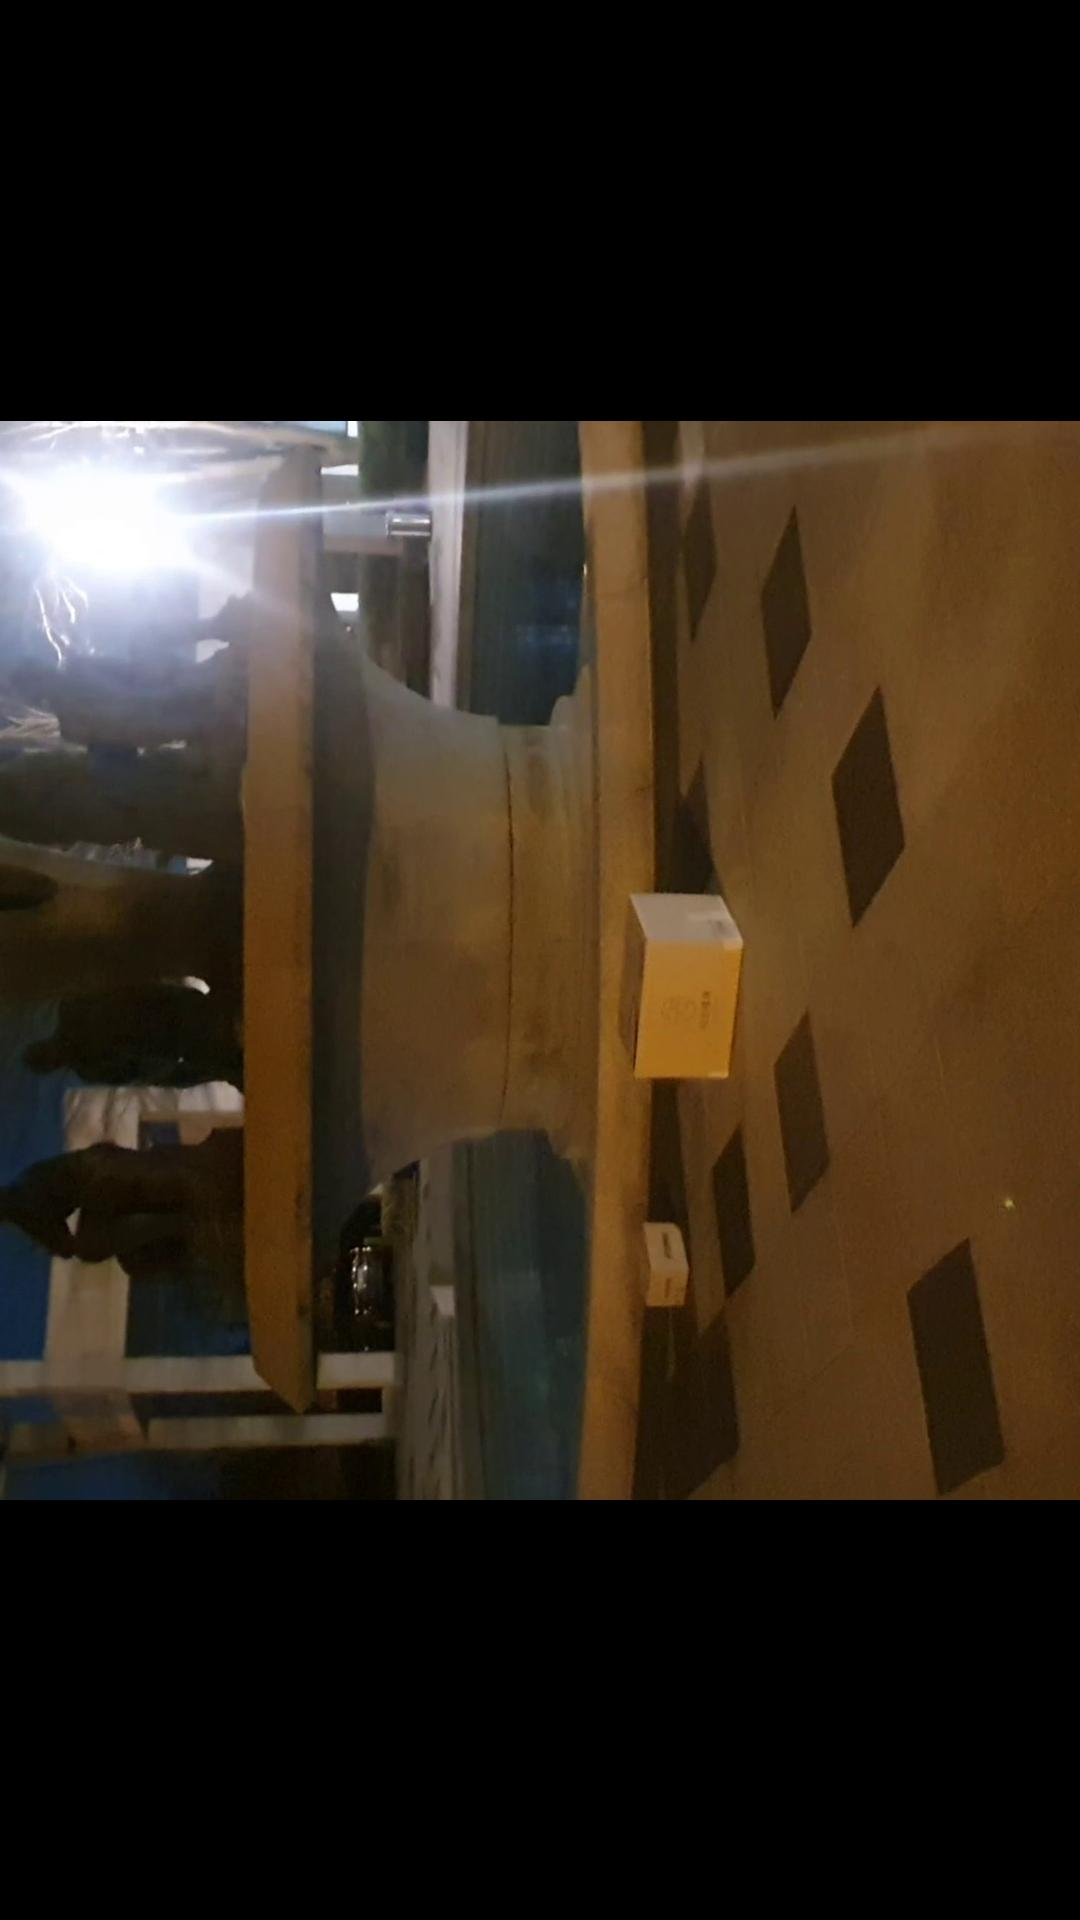Box: (595, 855, 767, 1104), (611, 1188, 732, 1362)
